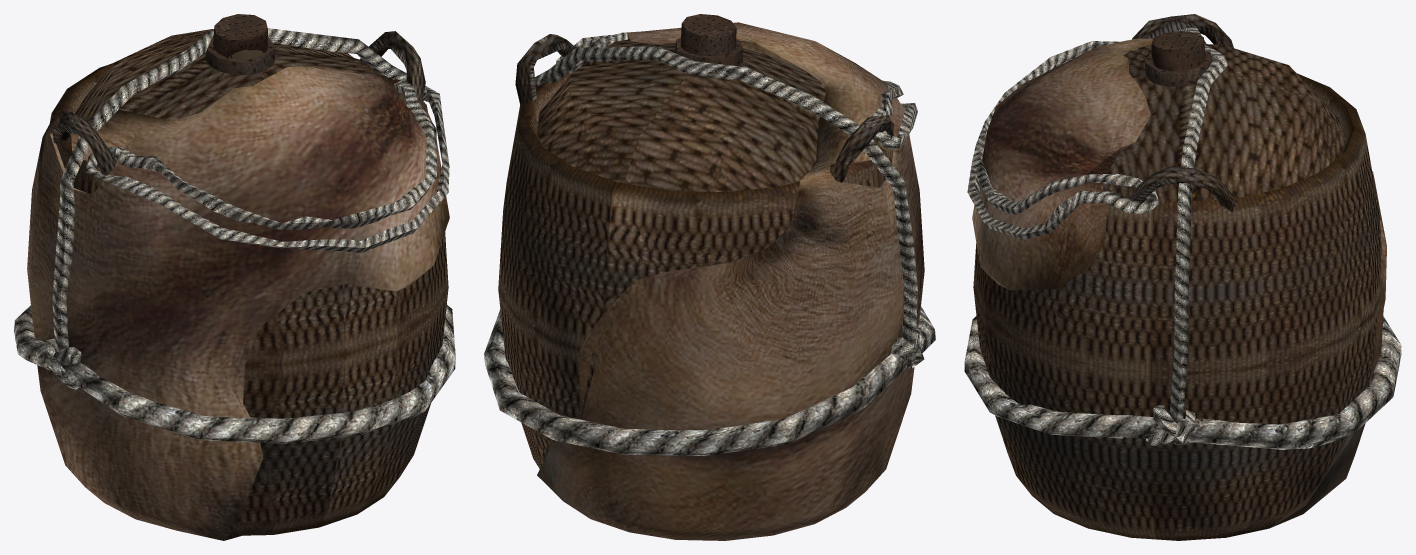
File: fish_basket_2.FBX
The picture shows the model from 3 angles, left to right: view 1: azimuth 30°, elevation 25°; view 2: azimuth 150°, elevation 25°; view 3: azimuth 270°, elevation 25°; orthographic projection. The views are drawn at different scales.
Parts seen in each view (by area): view 1: fish_basket_2; view 2: fish_basket_2; view 3: fish_basket_2.
Boxes of the visible parts, box(x1,y1,x2,y2) form: fish_basket_2: box(14, 14, 455, 540); fish_basket_2: box(484, 14, 935, 540); fish_basket_2: box(964, 14, 1401, 540).
Bounding box in the file's own units: 23.98 × 23.38 × 25.99.
